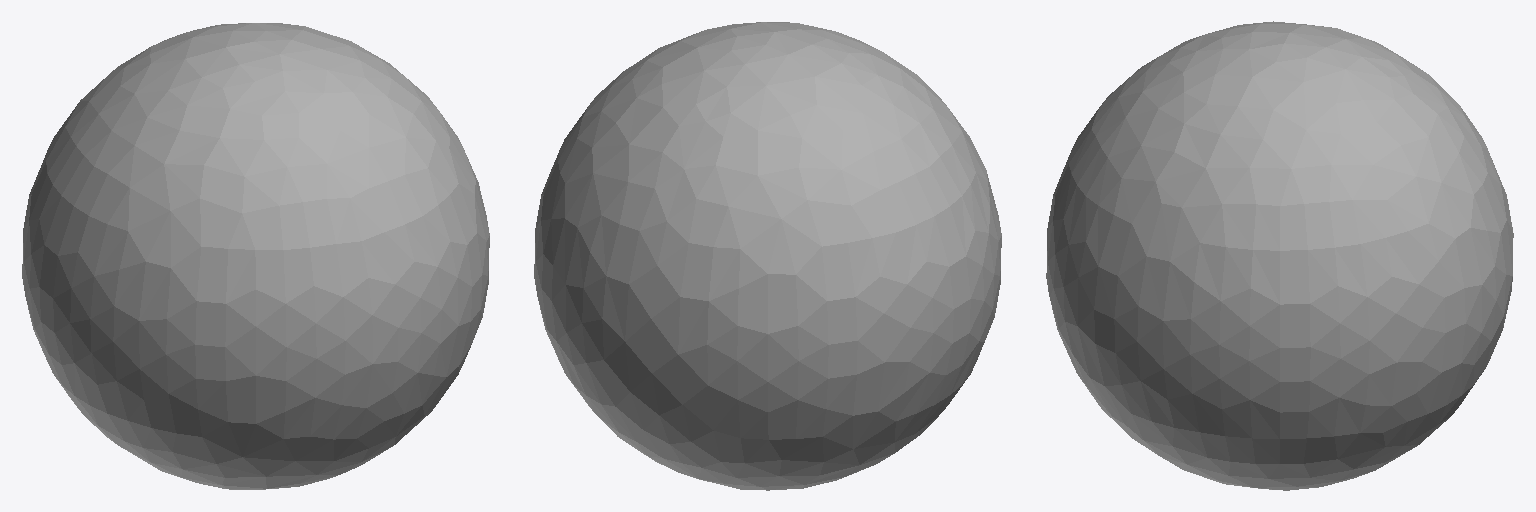
Rendered from moon.obj.
3 renders of one model, left to right at view 1: azimuth 30°, elevation 25°; view 2: azimuth 150°, elevation 25°; view 3: azimuth 270°, elevation 25°, orthographic.
Parts seen in each view (by area): view 1: single_mesh_object; view 2: single_mesh_object; view 3: single_mesh_object.
Part boxes in pixels (x1,y1,x2,y2): single_mesh_object: (22,23,489,489); single_mesh_object: (534,22,1001,490); single_mesh_object: (1046,21,1513,490).
Size of the model in its own units: 2 by 2 by 1.99.